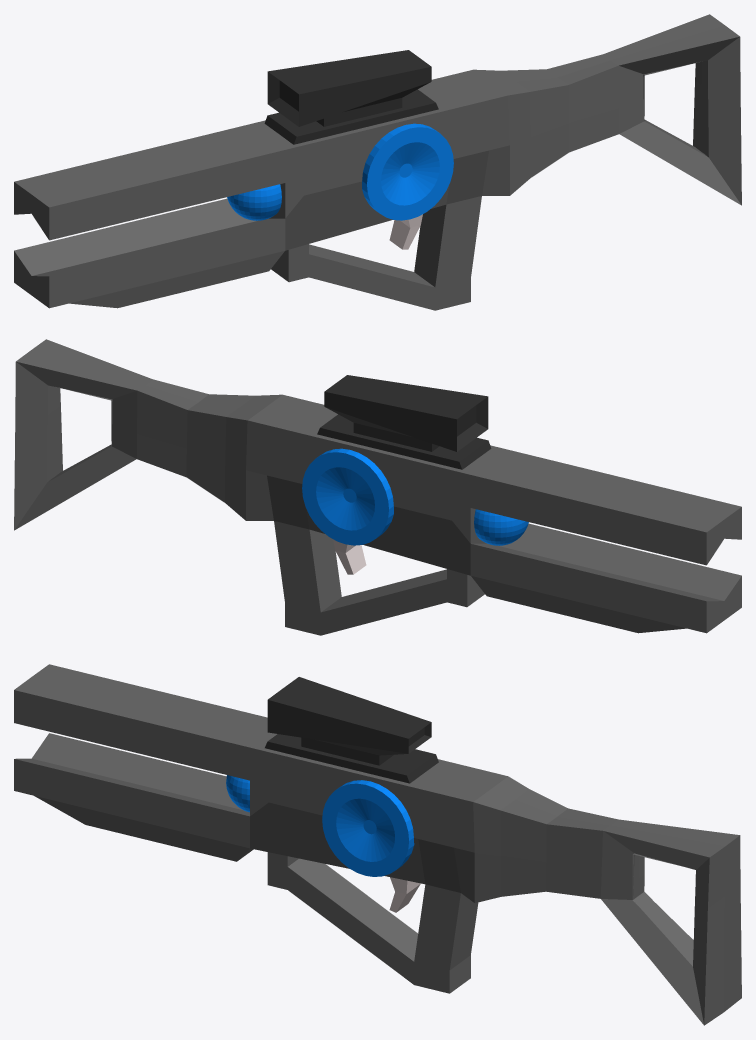
File: Gun.fbx
3 views of the same model, one above another, from view 1: azimuth 30°, elevation 25°; view 2: azimuth 150°, elevation 25°; view 3: azimuth 330°, elevation 25° (orthographic).
Parts seen in each view (by area): view 1: Gun; view 2: Gun; view 3: Gun.
Part boxes in pixels (box(x1,y1,x2,y2)): Gun: box(14, 14, 741, 310); Gun: box(14, 339, 741, 635); Gun: box(14, 664, 741, 1025).
Size of the model in its own units: 133 by 46.5 by 14.82.
